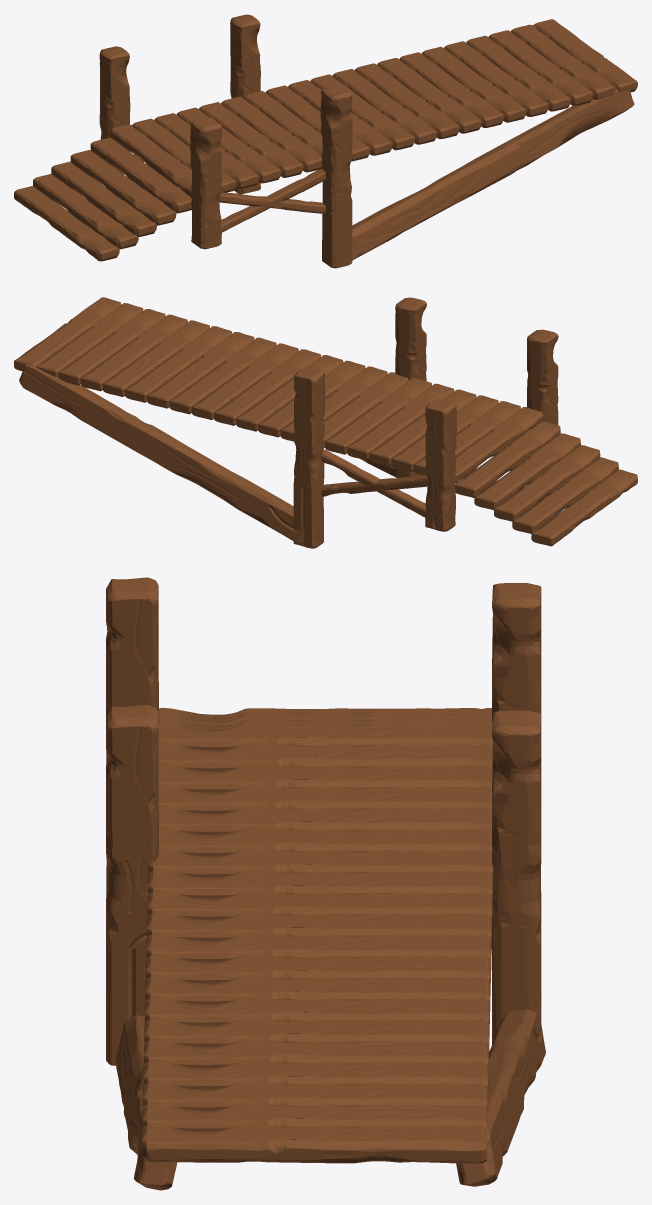
File: Port.fbx
3 views of the same model, one above another, from view 1: azimuth 30°, elevation 25°; view 2: azimuth 150°, elevation 25°; view 3: azimuth 270°, elevation 25° (orthographic). The views are drawn at different scales.
Parts seen in each view (by area): view 1: Cube.032, Cube.013, Cube.001, Cube.004, Cube.002, Cube.009, Cube.006, Cube.027, Cube.007, Cube.005, Cube.008, Cube.011 (+1 smaller); view 2: Cube.032, Cube.014, Cube.002, Cube.005, Cube.004, Cube.001, Cube.027, Cube.009, Cube.006, Cube.007, Cube.008, Cube.028 (+1 smaller); view 3: Cube.032, Cube.002, Cube.001, Cube.014, Cube.004, Cube.005, Cube.013, Cube.007, Cube.006, Cube.009, Cube.008.
Part boxes in pixels (bbox=[...]): Cube.032: bbox=[110, 19, 637, 197]; Cube.013: bbox=[352, 89, 634, 260]; Cube.001: bbox=[320, 86, 352, 268]; Cube.004: bbox=[190, 118, 221, 249]; Cube.002: bbox=[230, 14, 260, 194]; Cube.009: bbox=[14, 186, 119, 261]; Cube.006: bbox=[70, 150, 176, 225]; Cube.027: bbox=[90, 137, 191, 213]; Cube.007: bbox=[51, 161, 156, 236]; Cube.005: bbox=[99, 46, 130, 174]; Cube.008: bbox=[33, 174, 138, 249]; Cube.011: bbox=[220, 168, 325, 232]; Cube.032: bbox=[14, 297, 543, 483]; Cube.014: bbox=[19, 363, 304, 544]; Cube.002: bbox=[293, 366, 325, 548]; Cube.005: bbox=[425, 399, 456, 531]; Cube.004: bbox=[527, 329, 558, 425]; Cube.001: bbox=[395, 297, 426, 477]; Cube.027: bbox=[455, 421, 560, 497]; Cube.009: bbox=[531, 469, 637, 546]; Cube.006: bbox=[474, 433, 580, 510]; Cube.007: bbox=[494, 445, 600, 521]; Cube.008: bbox=[512, 457, 618, 533]; Cube.028: bbox=[321, 449, 425, 517]; Cube.032: bbox=[141, 722, 493, 1163]; Cube.002: bbox=[492, 710, 541, 1044]; Cube.001: bbox=[106, 705, 158, 1065]; Cube.014: bbox=[456, 1009, 545, 1186]; Cube.004: bbox=[106, 577, 158, 763]; Cube.005: bbox=[492, 583, 541, 738]; Cube.013: bbox=[115, 1015, 177, 1190]; Cube.007: bbox=[159, 714, 491, 725]; Cube.006: bbox=[159, 719, 491, 728]; Cube.009: bbox=[159, 708, 491, 717]; Cube.008: bbox=[159, 711, 491, 720].
Bounding box in the file's own units: 1430 × 442 × 506.
